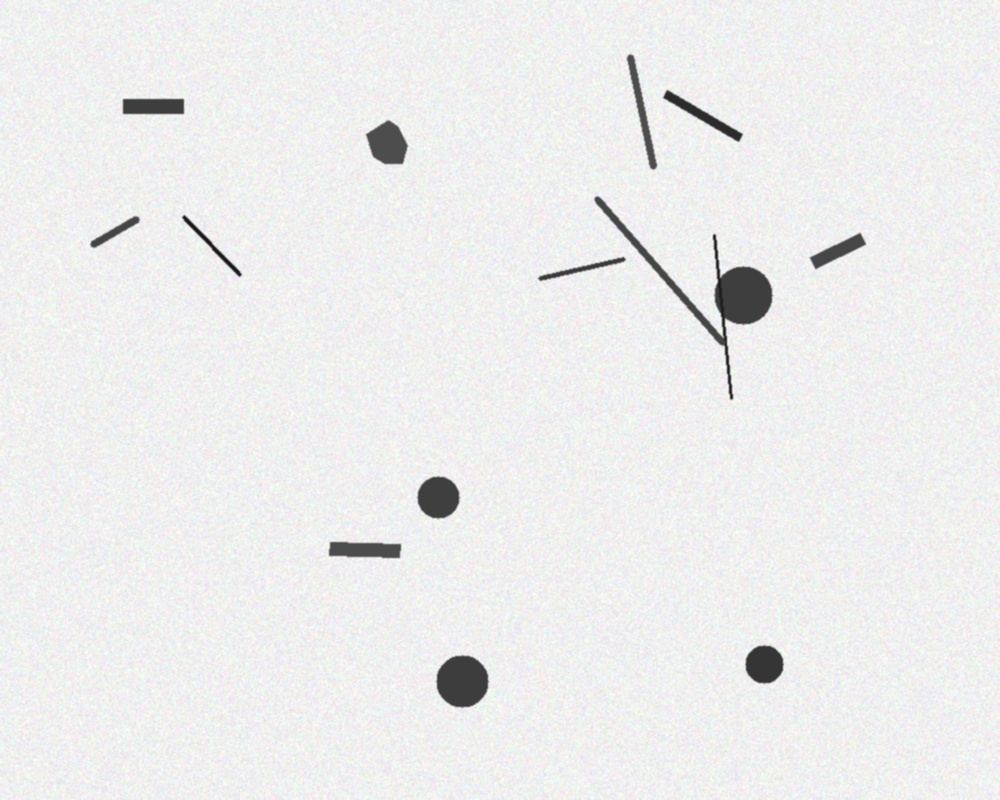fragmento: (415, 478, 462, 518), (745, 643, 783, 685)
